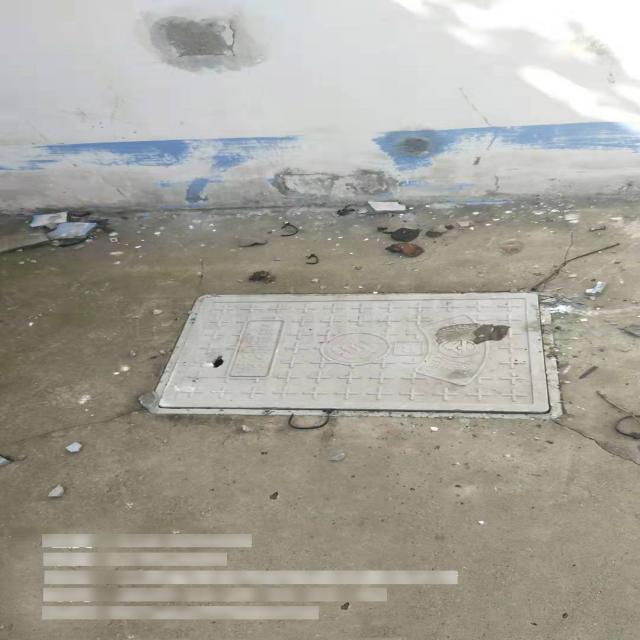Good: (144, 290, 564, 420)
